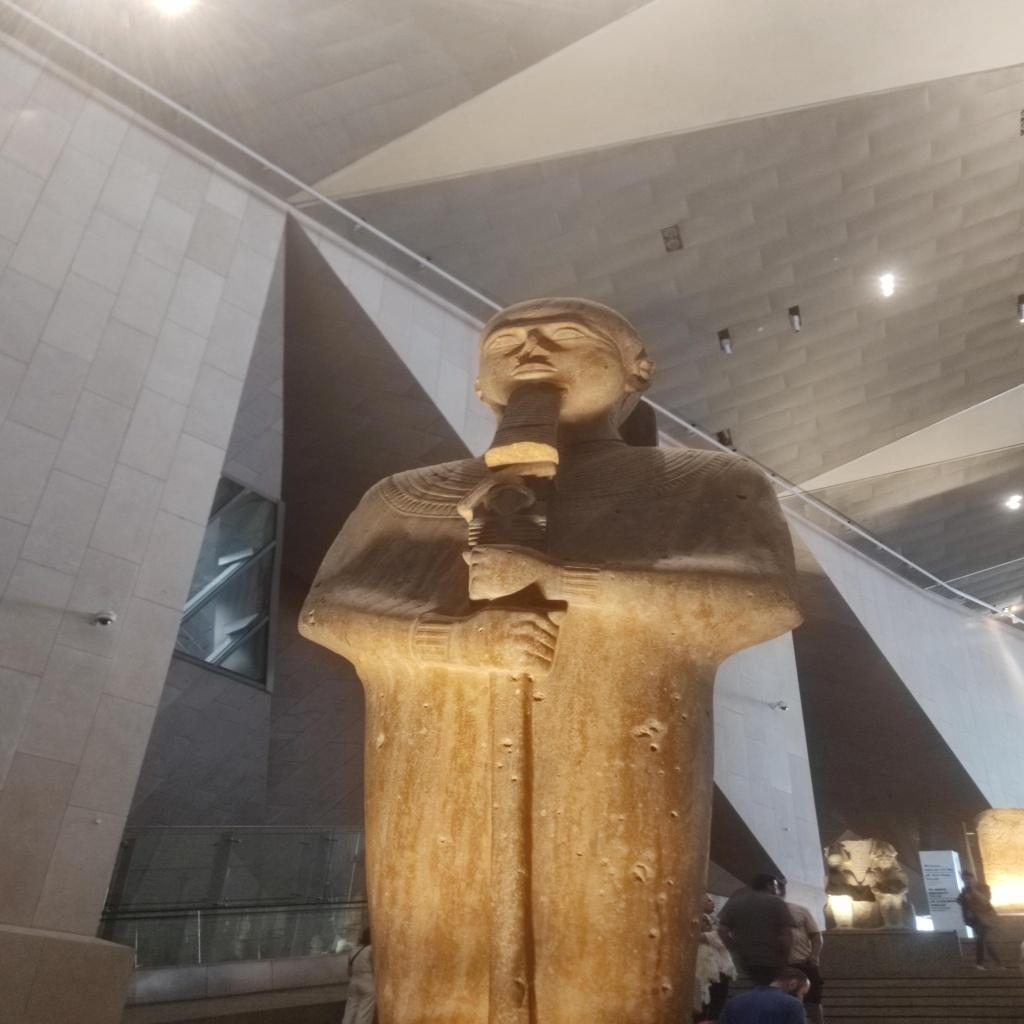Colossal Statue of God Ptah: (294, 291, 808, 1020)
